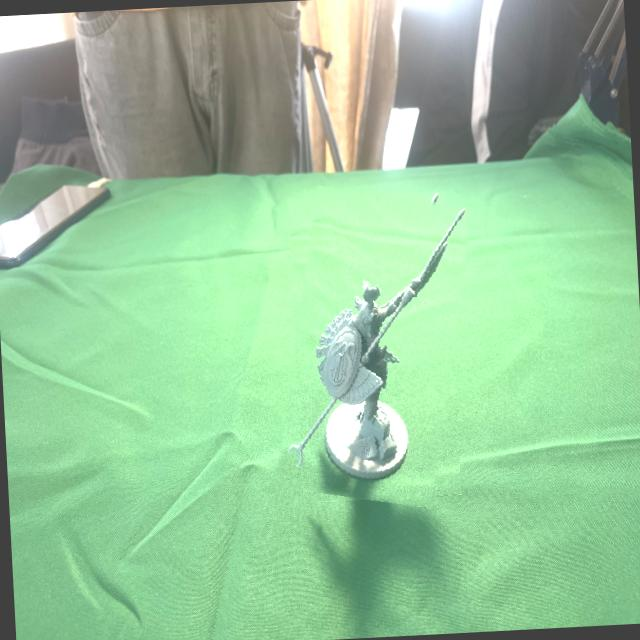isis: (274, 185, 476, 510)
